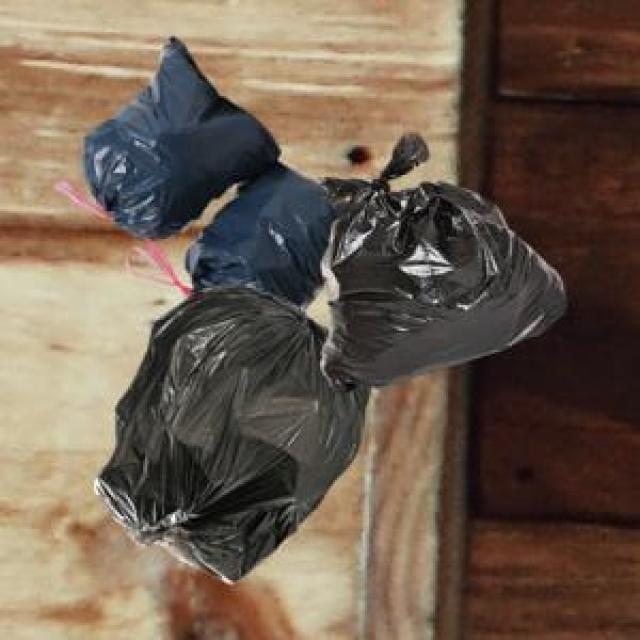waste: (85, 38, 566, 581)
